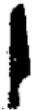Reed: (5, 2, 34, 109)
